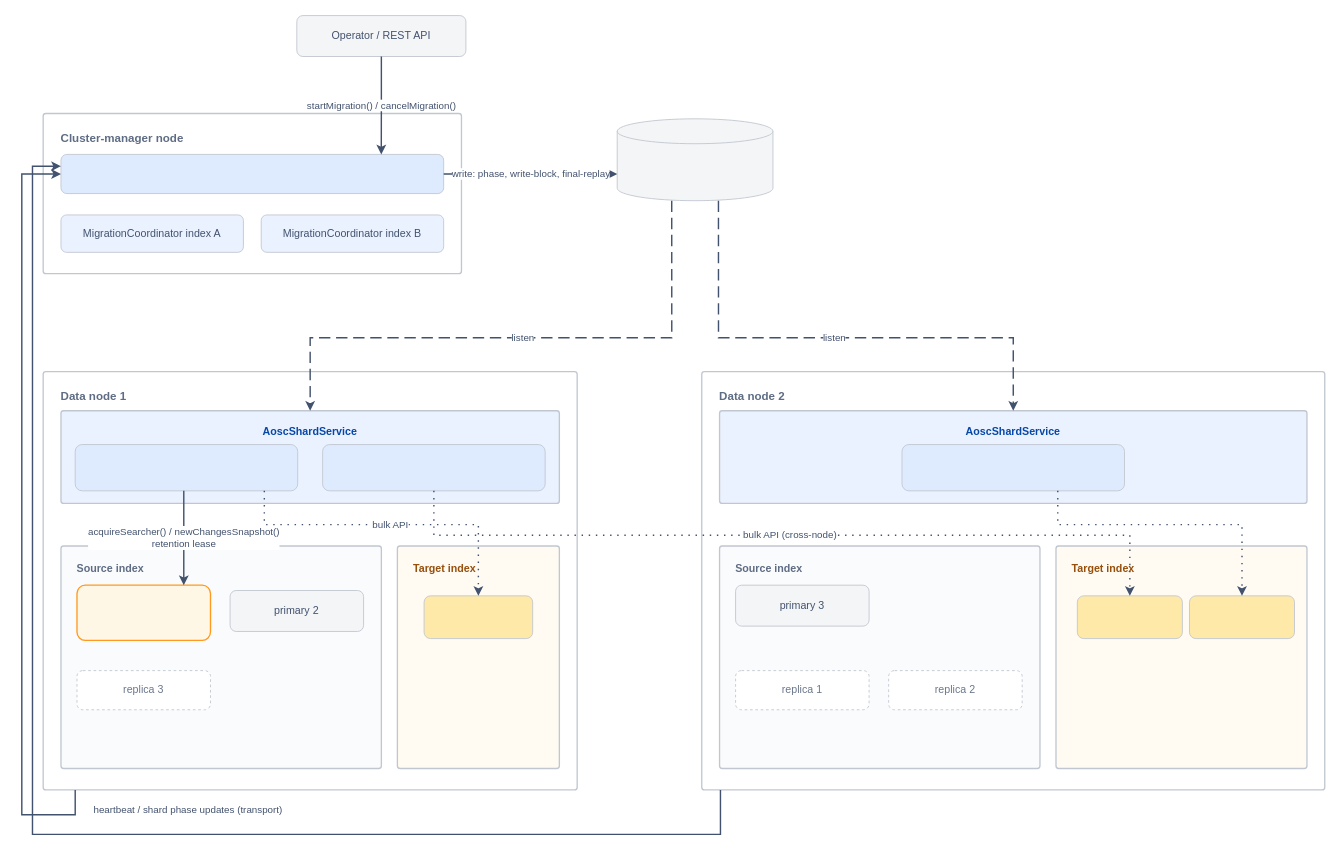
Image size: 1341x858. Some labels were removed from this diagram. Each missing label, with the centre of its shape:
AoscCoordinatorService: (252,174)
Cluster state: (694,159)
primary 1 (IndexShard): (143,612)
shard 1p: (478,617)
shard 2p: (1129,617)
shard 3p: (1242,617)
ShardMigrationWorker (shard 1): (186,467)
ShardMigrationWorker (shard 2): (433,467)
ShardMigrationWorker (shard 3): (1013,467)
